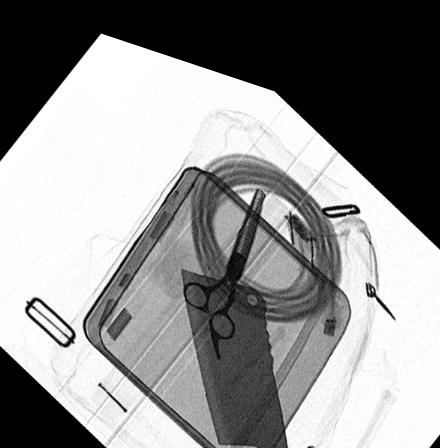Knife: (180, 255, 290, 448)
Scissors: (183, 170, 266, 345)
